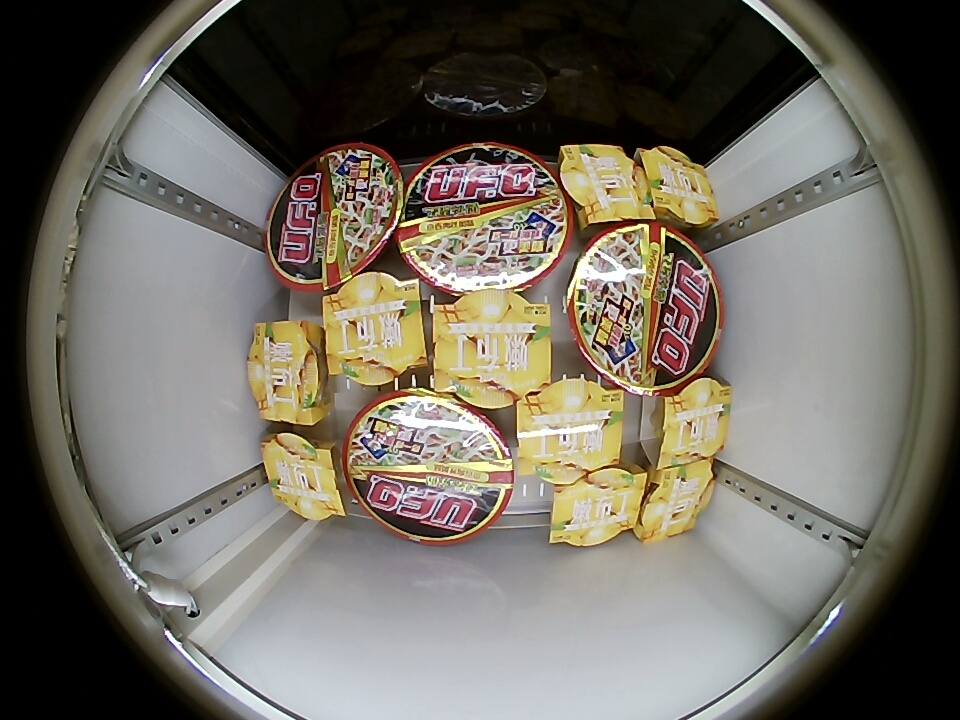buding: (432, 290, 552, 410), (322, 272, 428, 385), (516, 378, 624, 483), (247, 320, 328, 426), (558, 144, 653, 228), (551, 465, 647, 547), (262, 433, 346, 520), (650, 378, 732, 466), (635, 460, 716, 543), (639, 146, 719, 228)
ufo2: (565, 222, 724, 396), (343, 388, 516, 547), (398, 141, 570, 296), (265, 142, 405, 293)
